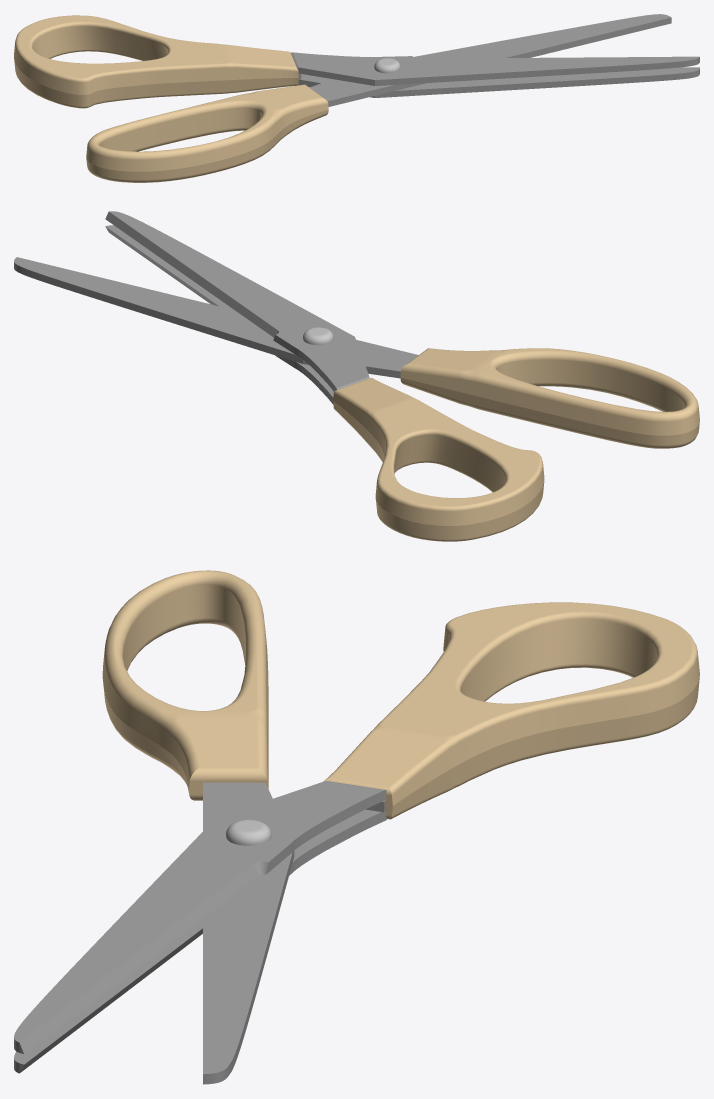
File: ciseaux 3lames.dae
3 renders of one model, top to bottom at view 1: azimuth 30°, elevation 25°; view 2: azimuth 150°, elevation 25°; view 3: azimuth 270°, elevation 25°, orthographic. The views are drawn at different scales.
Parts seen in each view (by area): view 1: Body1 (×5), Body2; view 2: Body1 (×4), Body2; view 3: Body1 (×5), Body2.
Part boxes in pixels (left/top/right/bottom): Body1 (×5): left=14, top=14, right=699, bottom=108; Body2: left=86, top=84, right=328, bottom=182; Body1 (×4): left=14, top=211, right=544, bottom=541; Body2: left=400, top=348, right=699, bottom=448; Body1 (×5): left=14, top=602, right=699, bottom=1084; Body2: left=102, top=570, right=268, bottom=800.
Size of the model in its own units: 202 by 10 by 120.
